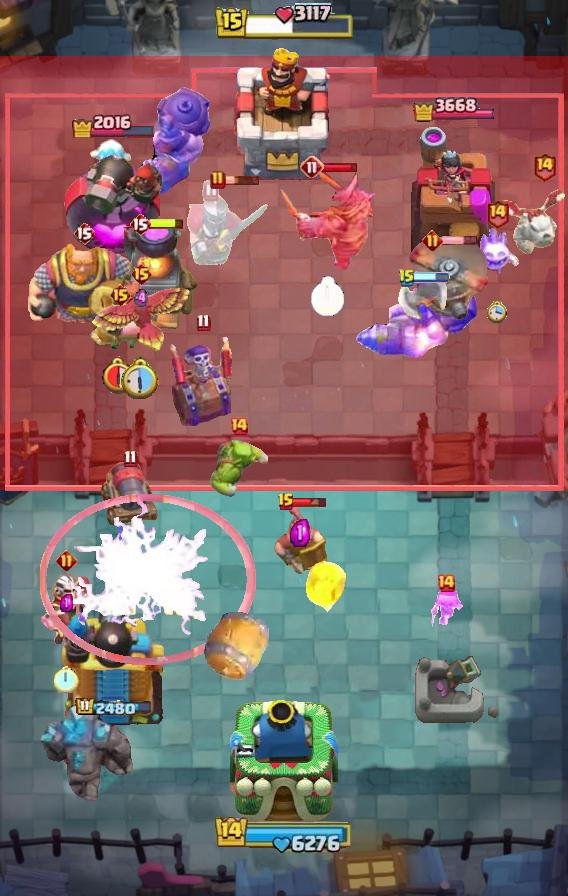barbarian-evolution: (39, 493, 256, 666)
bat: (90, 138, 132, 174)
cannoneer-tower: (38, 703, 136, 805)
clock: (213, 3, 355, 43), (214, 814, 354, 854)
dark-prince: (401, 238, 495, 320)
dirt: (203, 606, 273, 682)
earthquake: (273, 502, 327, 574)
electro-spirit: (290, 519, 310, 547), (134, 287, 148, 308), (59, 594, 72, 612)
elixir: (121, 357, 161, 399), (311, 275, 346, 316), (102, 355, 138, 394), (53, 665, 78, 693), (487, 300, 507, 323)
emote: (149, 217, 185, 231), (322, 162, 359, 174), (223, 174, 260, 186), (293, 496, 328, 508), (441, 234, 478, 245), (414, 273, 450, 284)
executioner: (90, 307, 150, 353)
flying-machine: (210, 440, 268, 498)
giant-skeleton: (26, 239, 142, 329)
goblin: (428, 588, 464, 628)
golden-knight: (88, 276, 194, 354)
golemite: (277, 166, 377, 274)
hunter: (111, 223, 199, 333)
king-tower: (229, 43, 339, 181), (230, 698, 338, 826)
mini-pekka: (498, 186, 568, 258)
mirror: (473, 228, 521, 276)
queen-tower: (411, 122, 495, 256)
royal-giant: (394, 273, 448, 333)
royal-giant-evolution: (99, 459, 161, 529)
selected: (414, 94, 495, 126), (71, 111, 157, 138), (75, 698, 153, 719)
skeleton-king: (37, 574, 95, 646)
skeleton-king-bar: (170, 332, 236, 426)
text: (532, 151, 557, 182), (486, 198, 511, 229), (300, 155, 324, 179), (130, 262, 154, 286), (109, 283, 132, 307), (129, 212, 151, 236), (73, 221, 95, 245), (421, 229, 442, 251), (55, 549, 76, 571), (229, 416, 249, 436), (436, 573, 456, 593), (398, 268, 416, 288), (277, 492, 295, 512), (210, 170, 226, 190), (122, 449, 137, 468), (197, 313, 211, 331)
tower-bar: (58, 595, 170, 731), (64, 138, 164, 256)
valkyrie: (301, 558, 349, 620)
wall-breaker-evolution: (185, 179, 271, 271)
wizard: (355, 281, 479, 359), (132, 85, 214, 199)
